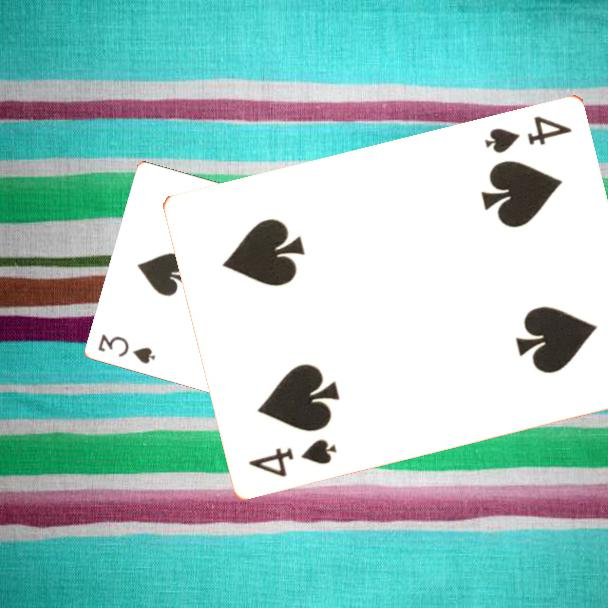s03: (95, 330, 158, 367)
s04: (245, 434, 340, 479), (481, 111, 575, 156)
